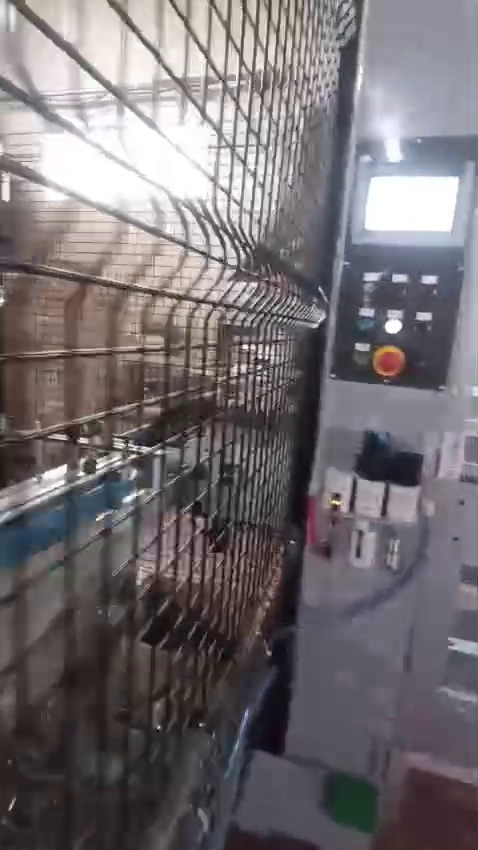savon: (97, 305, 232, 404), (113, 656, 236, 704), (369, 344, 403, 382), (77, 410, 120, 433), (96, 279, 145, 297), (147, 286, 184, 308), (41, 260, 72, 280), (33, 368, 64, 384), (4, 304, 9, 400), (179, 398, 198, 423)
